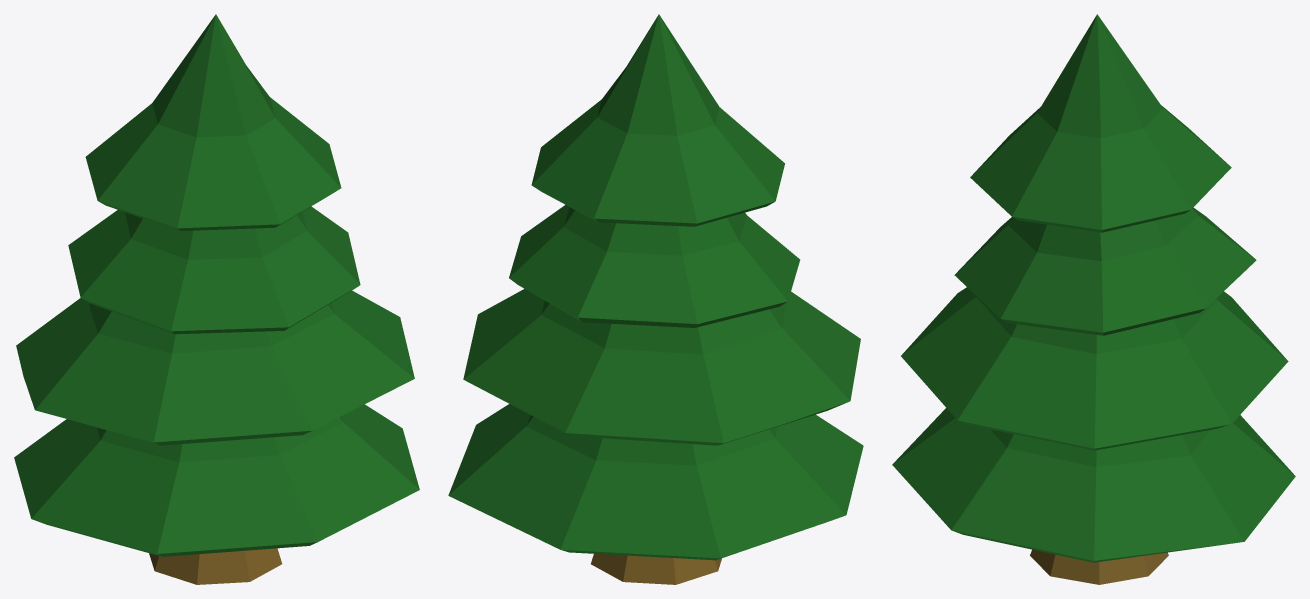
File: WinterTree2.glb
The picture shows the model from 3 angles, left to right: view 1: azimuth 30°, elevation 25°; view 2: azimuth 150°, elevation 25°; view 3: azimuth 270°, elevation 25°; orthographic projection.
Visible parts, largest first — view 1: Cylinder.004, Cylinder; view 2: Cylinder.004, Cylinder; view 3: Cylinder.004, Cylinder.
Part boxes in pixels (x1=…): Cylinder.004: x1=14, y1=14, x2=419, y2=556; Cylinder: x1=149, y1=548, x2=282, y2=584; Cylinder.004: x1=448, y1=14, x2=863, y2=560; Cylinder: x1=591, y1=554, x2=721, y2=584; Cylinder.004: x1=892, y1=14, x2=1295, y2=562; Cylinder: x1=1030, y1=549, x2=1168, y2=584.
Bounding box in the file's own units: 7.48 × 10.44 × 7.06.
Materials: 2 (2 with a texture image).
